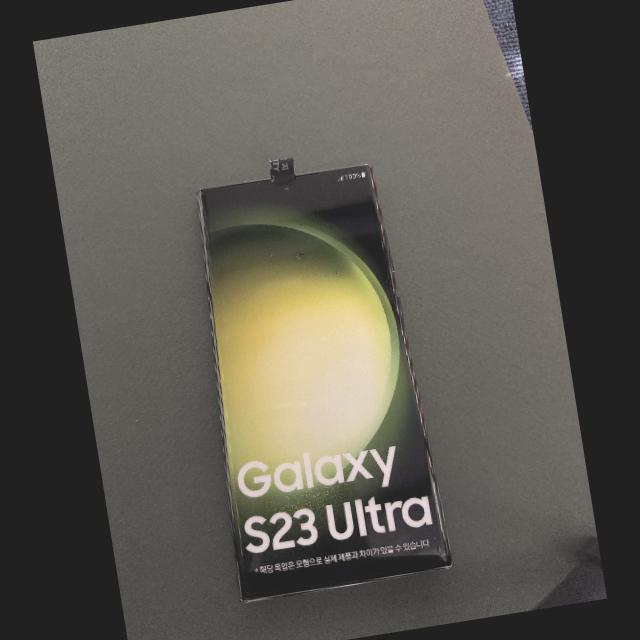lens: (283, 186, 290, 191)
phone: (197, 163, 453, 605)
sticker: (269, 158, 294, 186)
